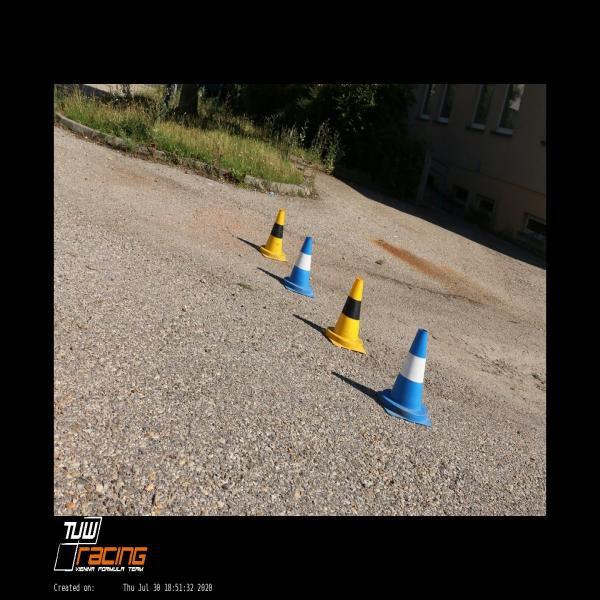blue_cone: (377, 327, 433, 428), (282, 236, 315, 299)
yellow_cone: (320, 278, 366, 354), (256, 209, 289, 262)
